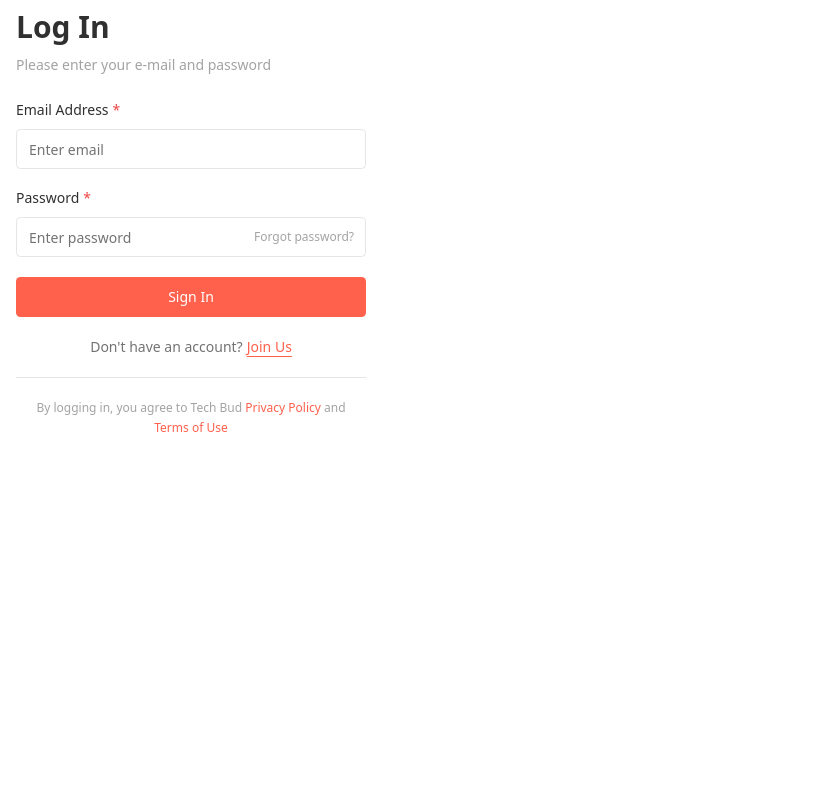
it: LoginForm › form submission › displays an error message if the login fails
This screenshot has width=831, height=789.
In the field labelled "Email Address": point(191, 149) [16, 129, 366, 169], type "invalid@example.com"
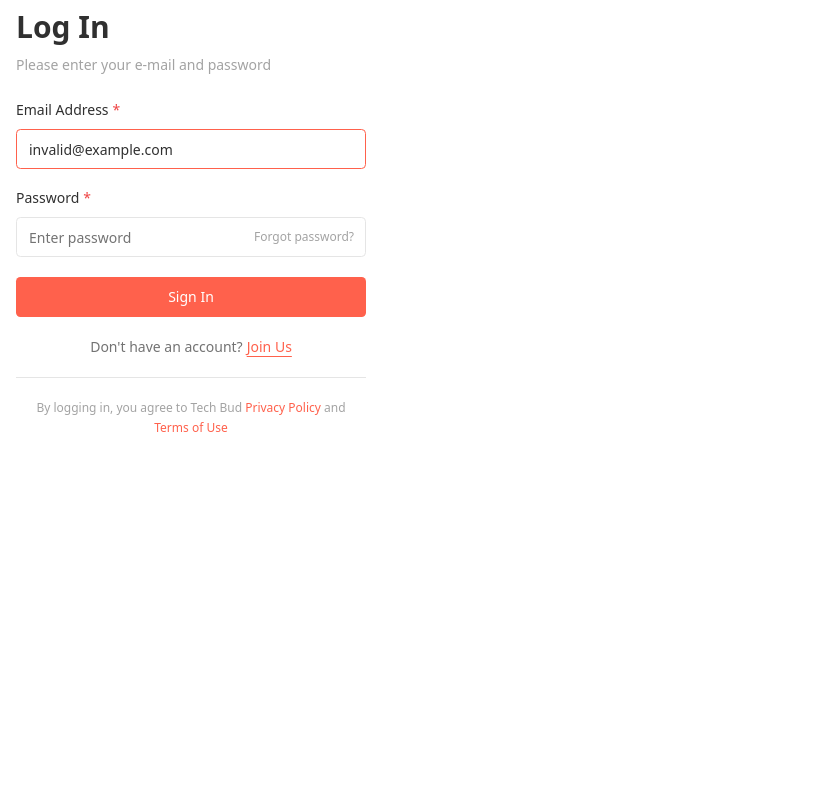
In the password field labelled "Enter password": point(191, 237) [16, 217, 366, 257], type "wrongpassword"
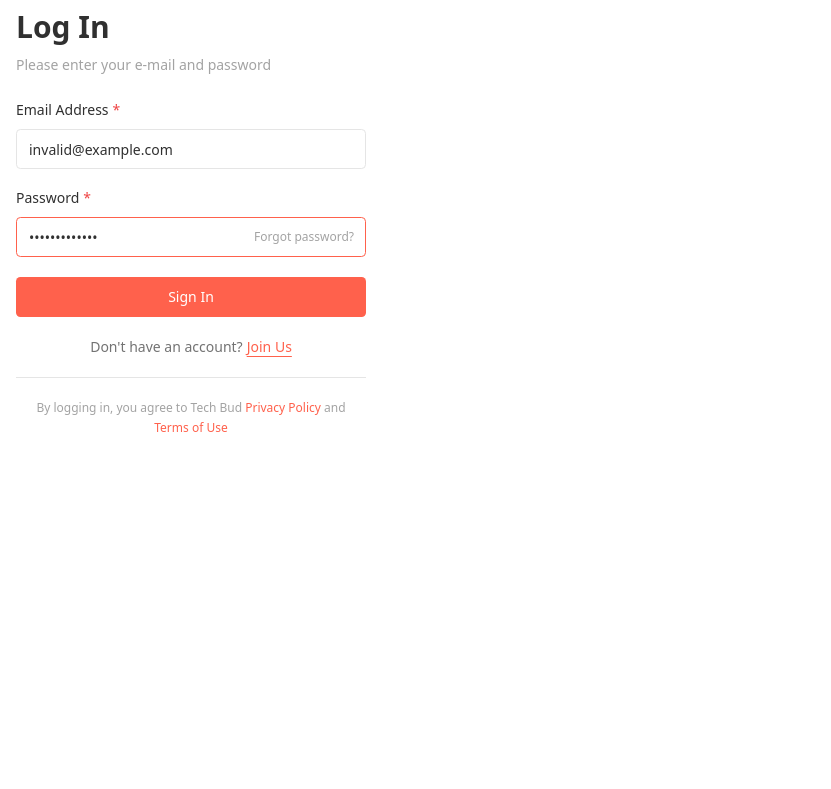
Click the button "Sign In": point(191, 297) [16, 277, 366, 317]
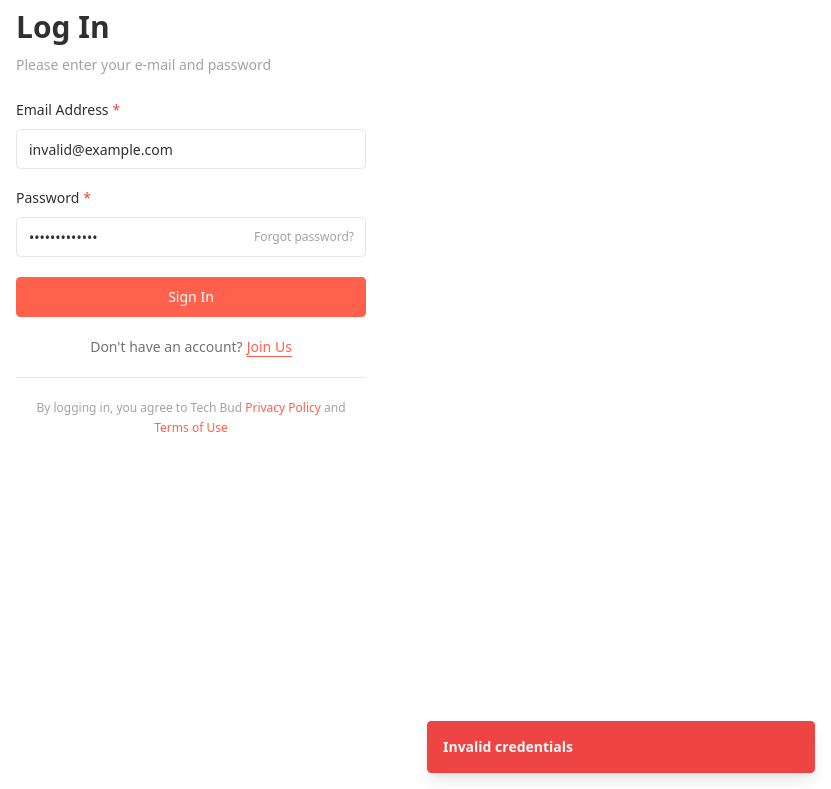
Now the text "Invalid credentials" is shown, box [443, 737, 573, 757]
